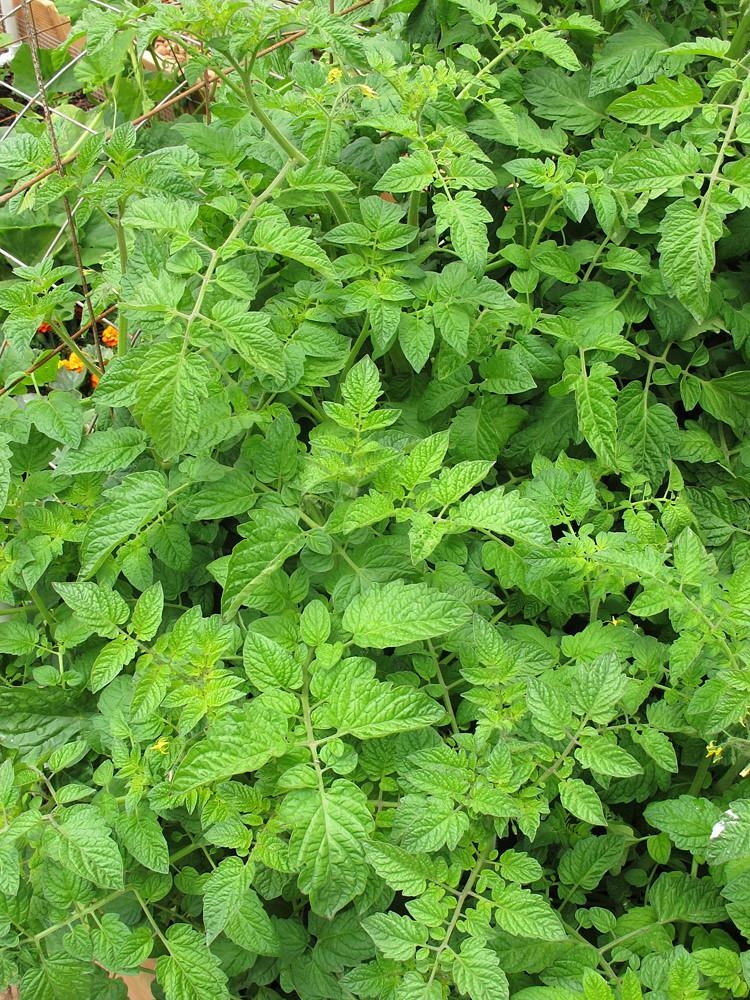Healthy: (276, 778, 377, 922), (170, 702, 288, 797), (75, 470, 170, 582), (222, 501, 306, 622), (586, 9, 696, 100), (134, 340, 211, 465), (344, 577, 472, 650), (548, 361, 622, 477), (656, 199, 723, 326), (324, 676, 448, 740), (41, 803, 125, 893), (618, 379, 681, 499), (449, 484, 560, 551), (254, 214, 344, 290), (521, 64, 615, 135), (211, 299, 288, 381), (603, 71, 703, 131), (431, 190, 495, 283), (155, 922, 231, 1000), (202, 854, 256, 948), (49, 425, 146, 477), (608, 139, 700, 192), (121, 196, 202, 256), (357, 836, 436, 897), (51, 579, 130, 639), (568, 645, 627, 725), (496, 883, 568, 944), (224, 888, 285, 959), (398, 796, 470, 856), (116, 265, 186, 326), (557, 832, 626, 890), (116, 802, 170, 875), (185, 466, 258, 520), (23, 388, 84, 450), (243, 630, 304, 692), (452, 937, 512, 1000), (560, 619, 642, 665), (172, 118, 246, 168), (358, 910, 429, 962), (252, 410, 300, 485), (318, 11, 374, 75), (417, 364, 474, 422), (575, 732, 645, 778), (396, 428, 452, 485), (308, 656, 377, 701), (525, 675, 572, 741), (450, 402, 500, 464), (89, 634, 139, 695), (339, 353, 385, 419), (430, 460, 496, 505), (144, 518, 194, 576), (285, 156, 359, 194), (511, 328, 565, 380), (127, 662, 172, 724), (372, 149, 434, 192), (343, 486, 396, 535), (406, 744, 477, 780), (559, 775, 608, 827), (690, 946, 743, 994), (671, 525, 711, 587), (478, 354, 537, 396), (398, 312, 436, 376), (523, 539, 586, 575), (402, 766, 471, 798), (215, 777, 272, 815), (560, 467, 597, 525), (130, 580, 164, 642), (533, 31, 583, 73), (168, 602, 204, 660), (434, 303, 471, 358), (472, 609, 506, 668), (468, 781, 521, 818), (531, 249, 582, 286), (668, 628, 705, 678), (102, 120, 144, 164), (292, 325, 344, 360), (449, 154, 498, 191), (202, 817, 253, 852), (641, 727, 679, 773), (117, 923, 154, 970), (369, 299, 402, 350), (687, 675, 729, 715), (501, 156, 550, 189), (215, 262, 257, 300), (670, 943, 700, 995), (603, 246, 653, 277), (628, 584, 673, 618), (300, 598, 331, 647), (500, 848, 542, 884), (403, 896, 448, 928), (595, 332, 642, 361), (376, 222, 421, 252), (324, 221, 372, 248), (484, 738, 512, 784), (62, 924, 94, 964), (562, 182, 590, 224), (465, 905, 497, 941), (378, 277, 417, 303), (56, 782, 96, 803), (588, 906, 616, 933)
